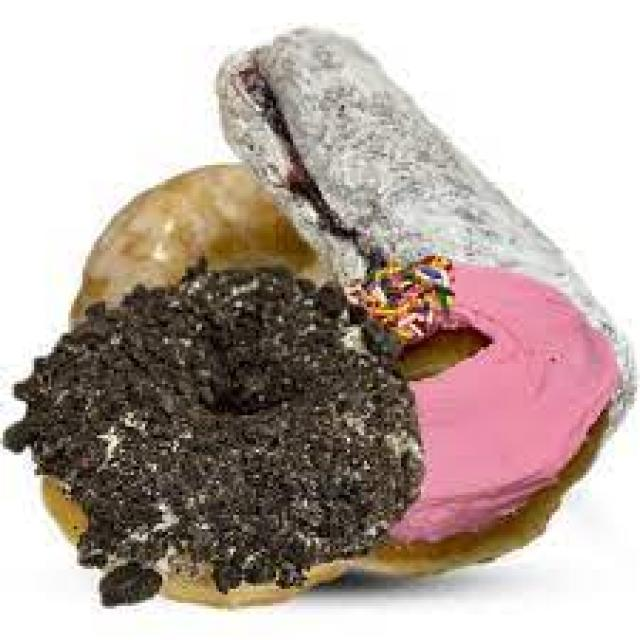Donut: (66, 139, 640, 570)
